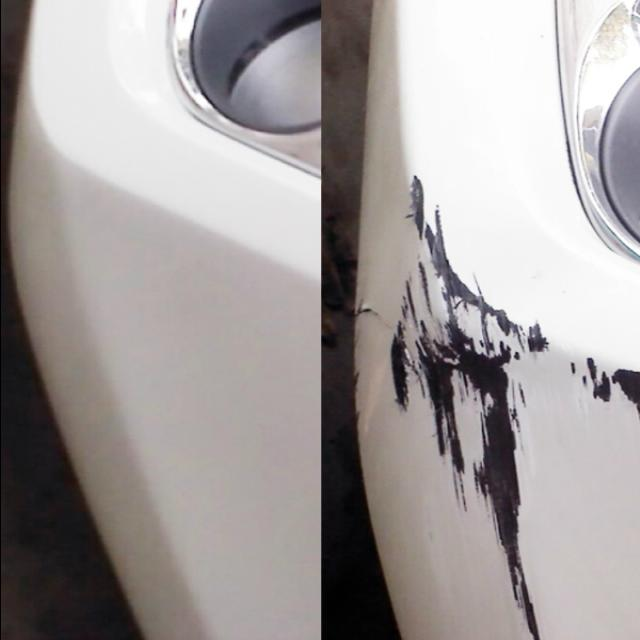front-bumper-scratch: (376, 158, 640, 640)
